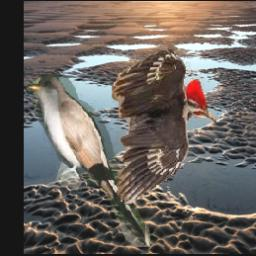Cuckoo: (26, 75, 150, 248)
Woodpecker: (112, 47, 216, 204)
